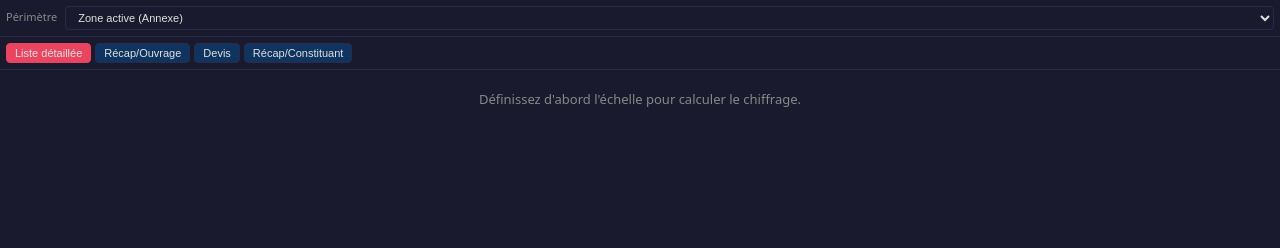
Scenario: ChiffrageFloat › scope › Should warn about the zones of the group left out because they have no scale
Select "Maison complète" in the dropdown with test id "chiffrage-scope" at (670, 18), box [65,6,1274,30]
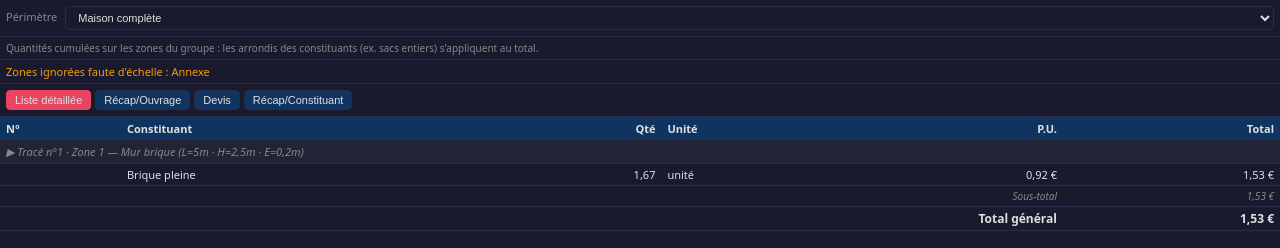
expect the text with test id "unscaled-zones" shows "Annexe": met, box [6,64,210,79]
